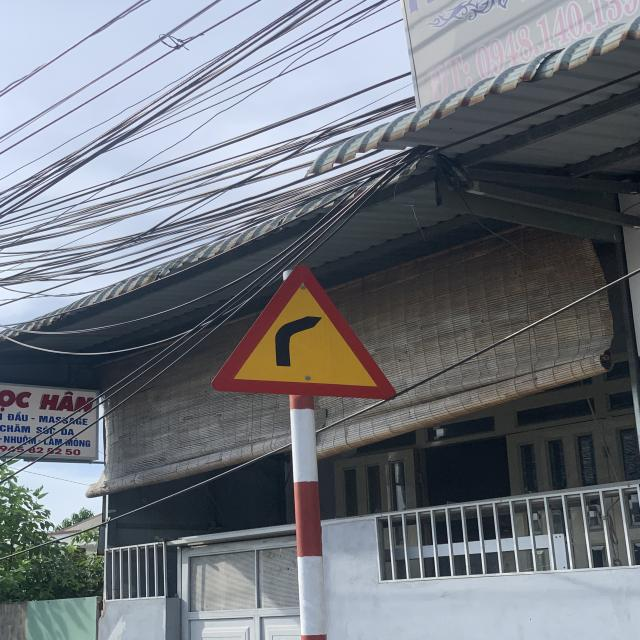Duong_Nguoi_Di_Bo_Cat_Ngang: (211, 265, 396, 399)
